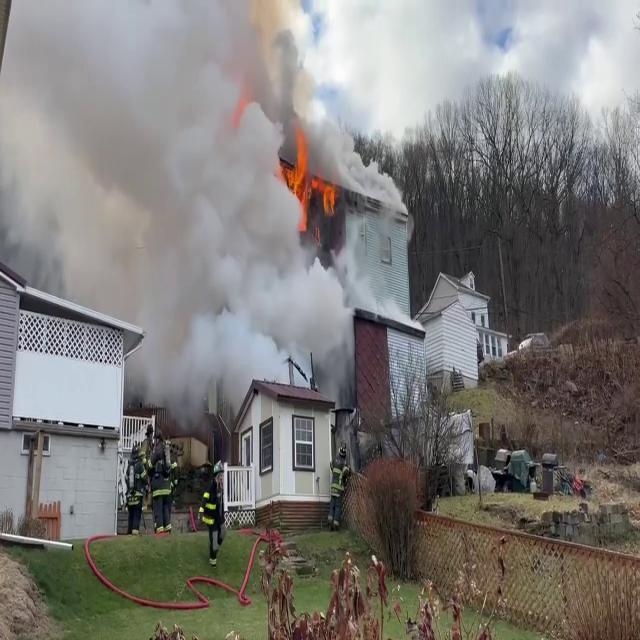Fire: (281, 122, 340, 230)
Smoke: (114, 0, 365, 404)
